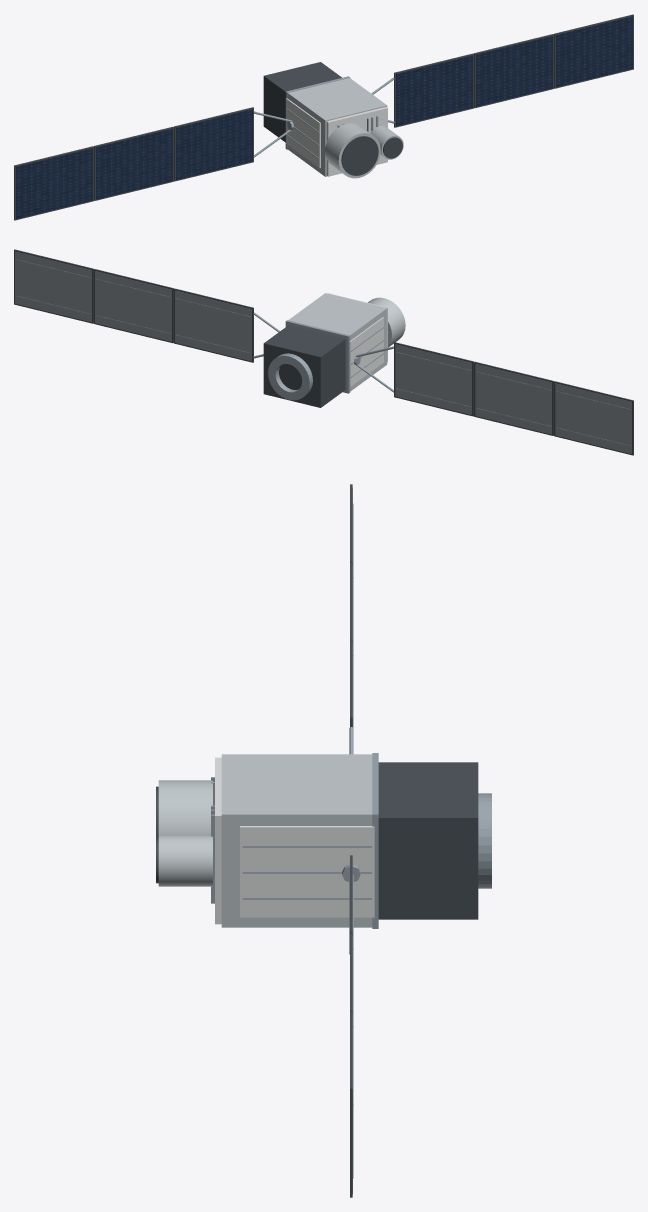
File: lm2100-sbirs.glb
3 renders of one model, top to bottom at view 1: azimuth 30°, elevation 25°; view 2: azimuth 150°, elevation 25°; view 3: azimuth 270°, elevation 25°, orthographic. The views are drawn at different scales.
Parts seen in each view (by area): view 1: Solar cell panel (×6), Payload module, Solar panel frame (×6), Service module, Optical instrument housing (×2), Radiator face, Telescope aperture (×2), Earth-facing deck; view 2: Rear array substrate (×6), Service module, Solar panel frame (×6), Payload module, Radiator face, Launch adapter ring, Optical instrument housing, Module interface; view 3: Service module, Payload module, Radiator face, Optical instrument housing (×2), Launch adapter ring, Earth-facing deck, Module interface.
Part boxes in pixels (x1,y1,x2,y2): Solar cell panel (×6): [16, 16, 632, 219]; Payload module: [287, 78, 387, 176]; Solar panel frame (×6): [14, 14, 633, 220]; Service module: [263, 62, 341, 142]; Optical instrument housing (×2): [325, 123, 403, 178]; Radiator face: [286, 98, 320, 167]; Telescope aperture (×2): [341, 136, 402, 175]; Earth-facing deck: [326, 107, 387, 176]; Rear array substrate (×6): [15, 251, 631, 453]; Service module: [263, 325, 345, 407]; Solar panel frame (×6): [14, 249, 633, 455]; Payload module: [288, 293, 387, 391]; Radiator face: [349, 317, 383, 386]; Launch adapter ring: [268, 353, 312, 400]; Optical instrument housing: [368, 297, 405, 347]; Module interface: [285, 320, 350, 393]; Service module: [378, 762, 478, 919]; Payload module: [221, 754, 372, 927]; Radiator face: [240, 826, 374, 917]; Optical instrument housing (×2): [158, 780, 212, 886]; Launch adapter ring: [478, 793, 491, 888]; Earth-facing deck: [215, 757, 221, 924]; Module interface: [372, 753, 378, 928].
Bounding box in the file's own units: 24.97 × 2.2 × 5.86.
6 materials, 1 textured.
